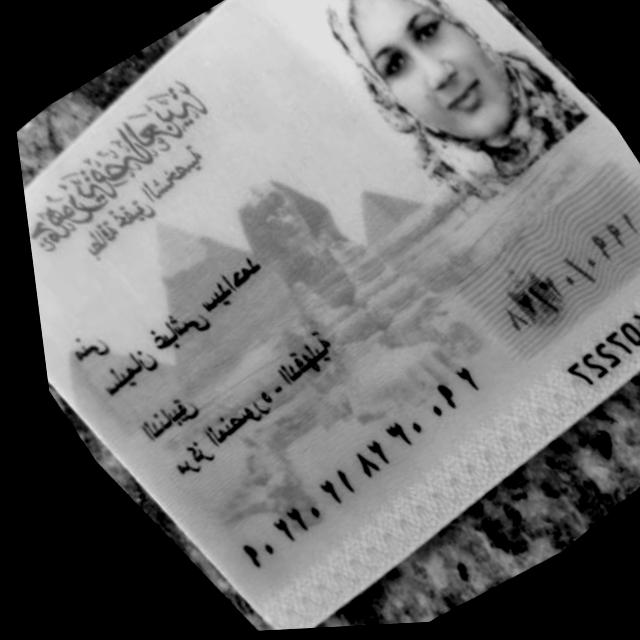id_card: (24, 0, 640, 630)
